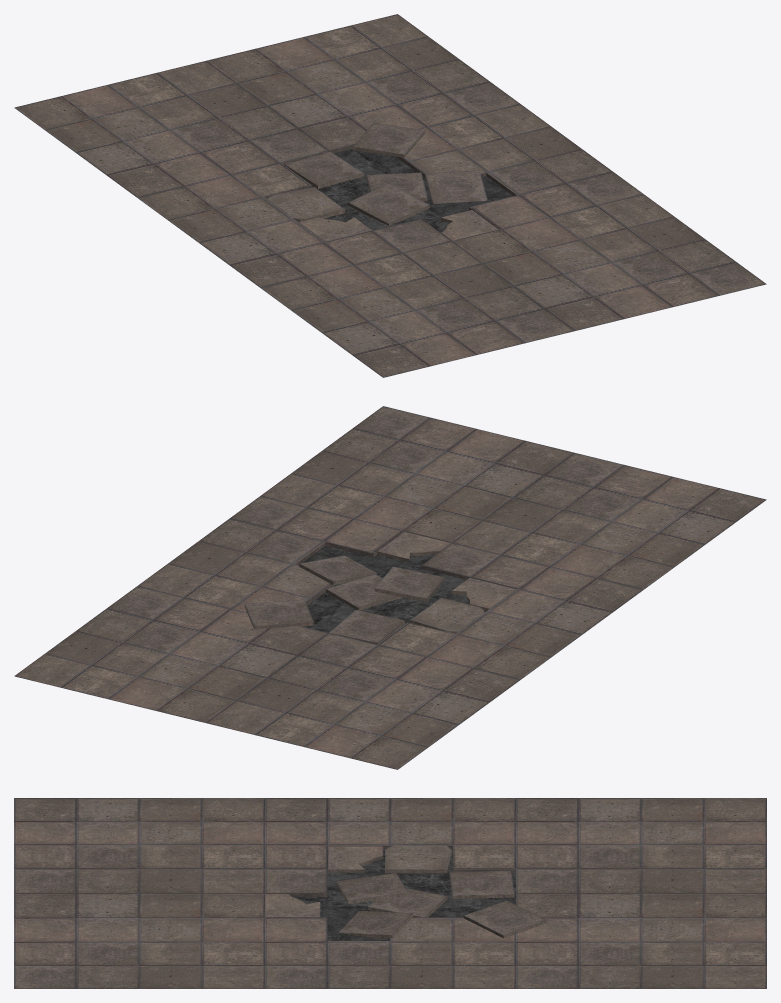
Rendered from #LVL_Floor_B.fbx.
3 views of the same model, one above another, from view 1: azimuth 30°, elevation 25°; view 2: azimuth 150°, elevation 25°; view 3: azimuth 270°, elevation 25° (orthographic).
Parts seen in each view (by area): view 1: Cube_052; view 2: Cube_052; view 3: Cube_052.
Part boxes in pixels (x1,y1,x2,y2): Cube_052: [14, 14, 766, 377]; Cube_052: [14, 406, 766, 769]; Cube_052: [14, 798, 766, 988].
Bounding box in the file's own units: 12 × 0.3487 × 20.
